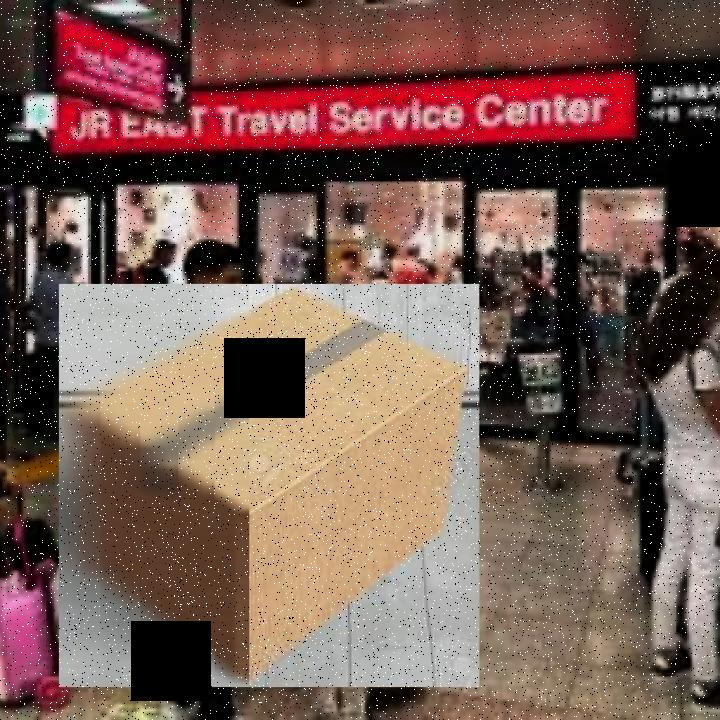box: (54, 279, 486, 694)
